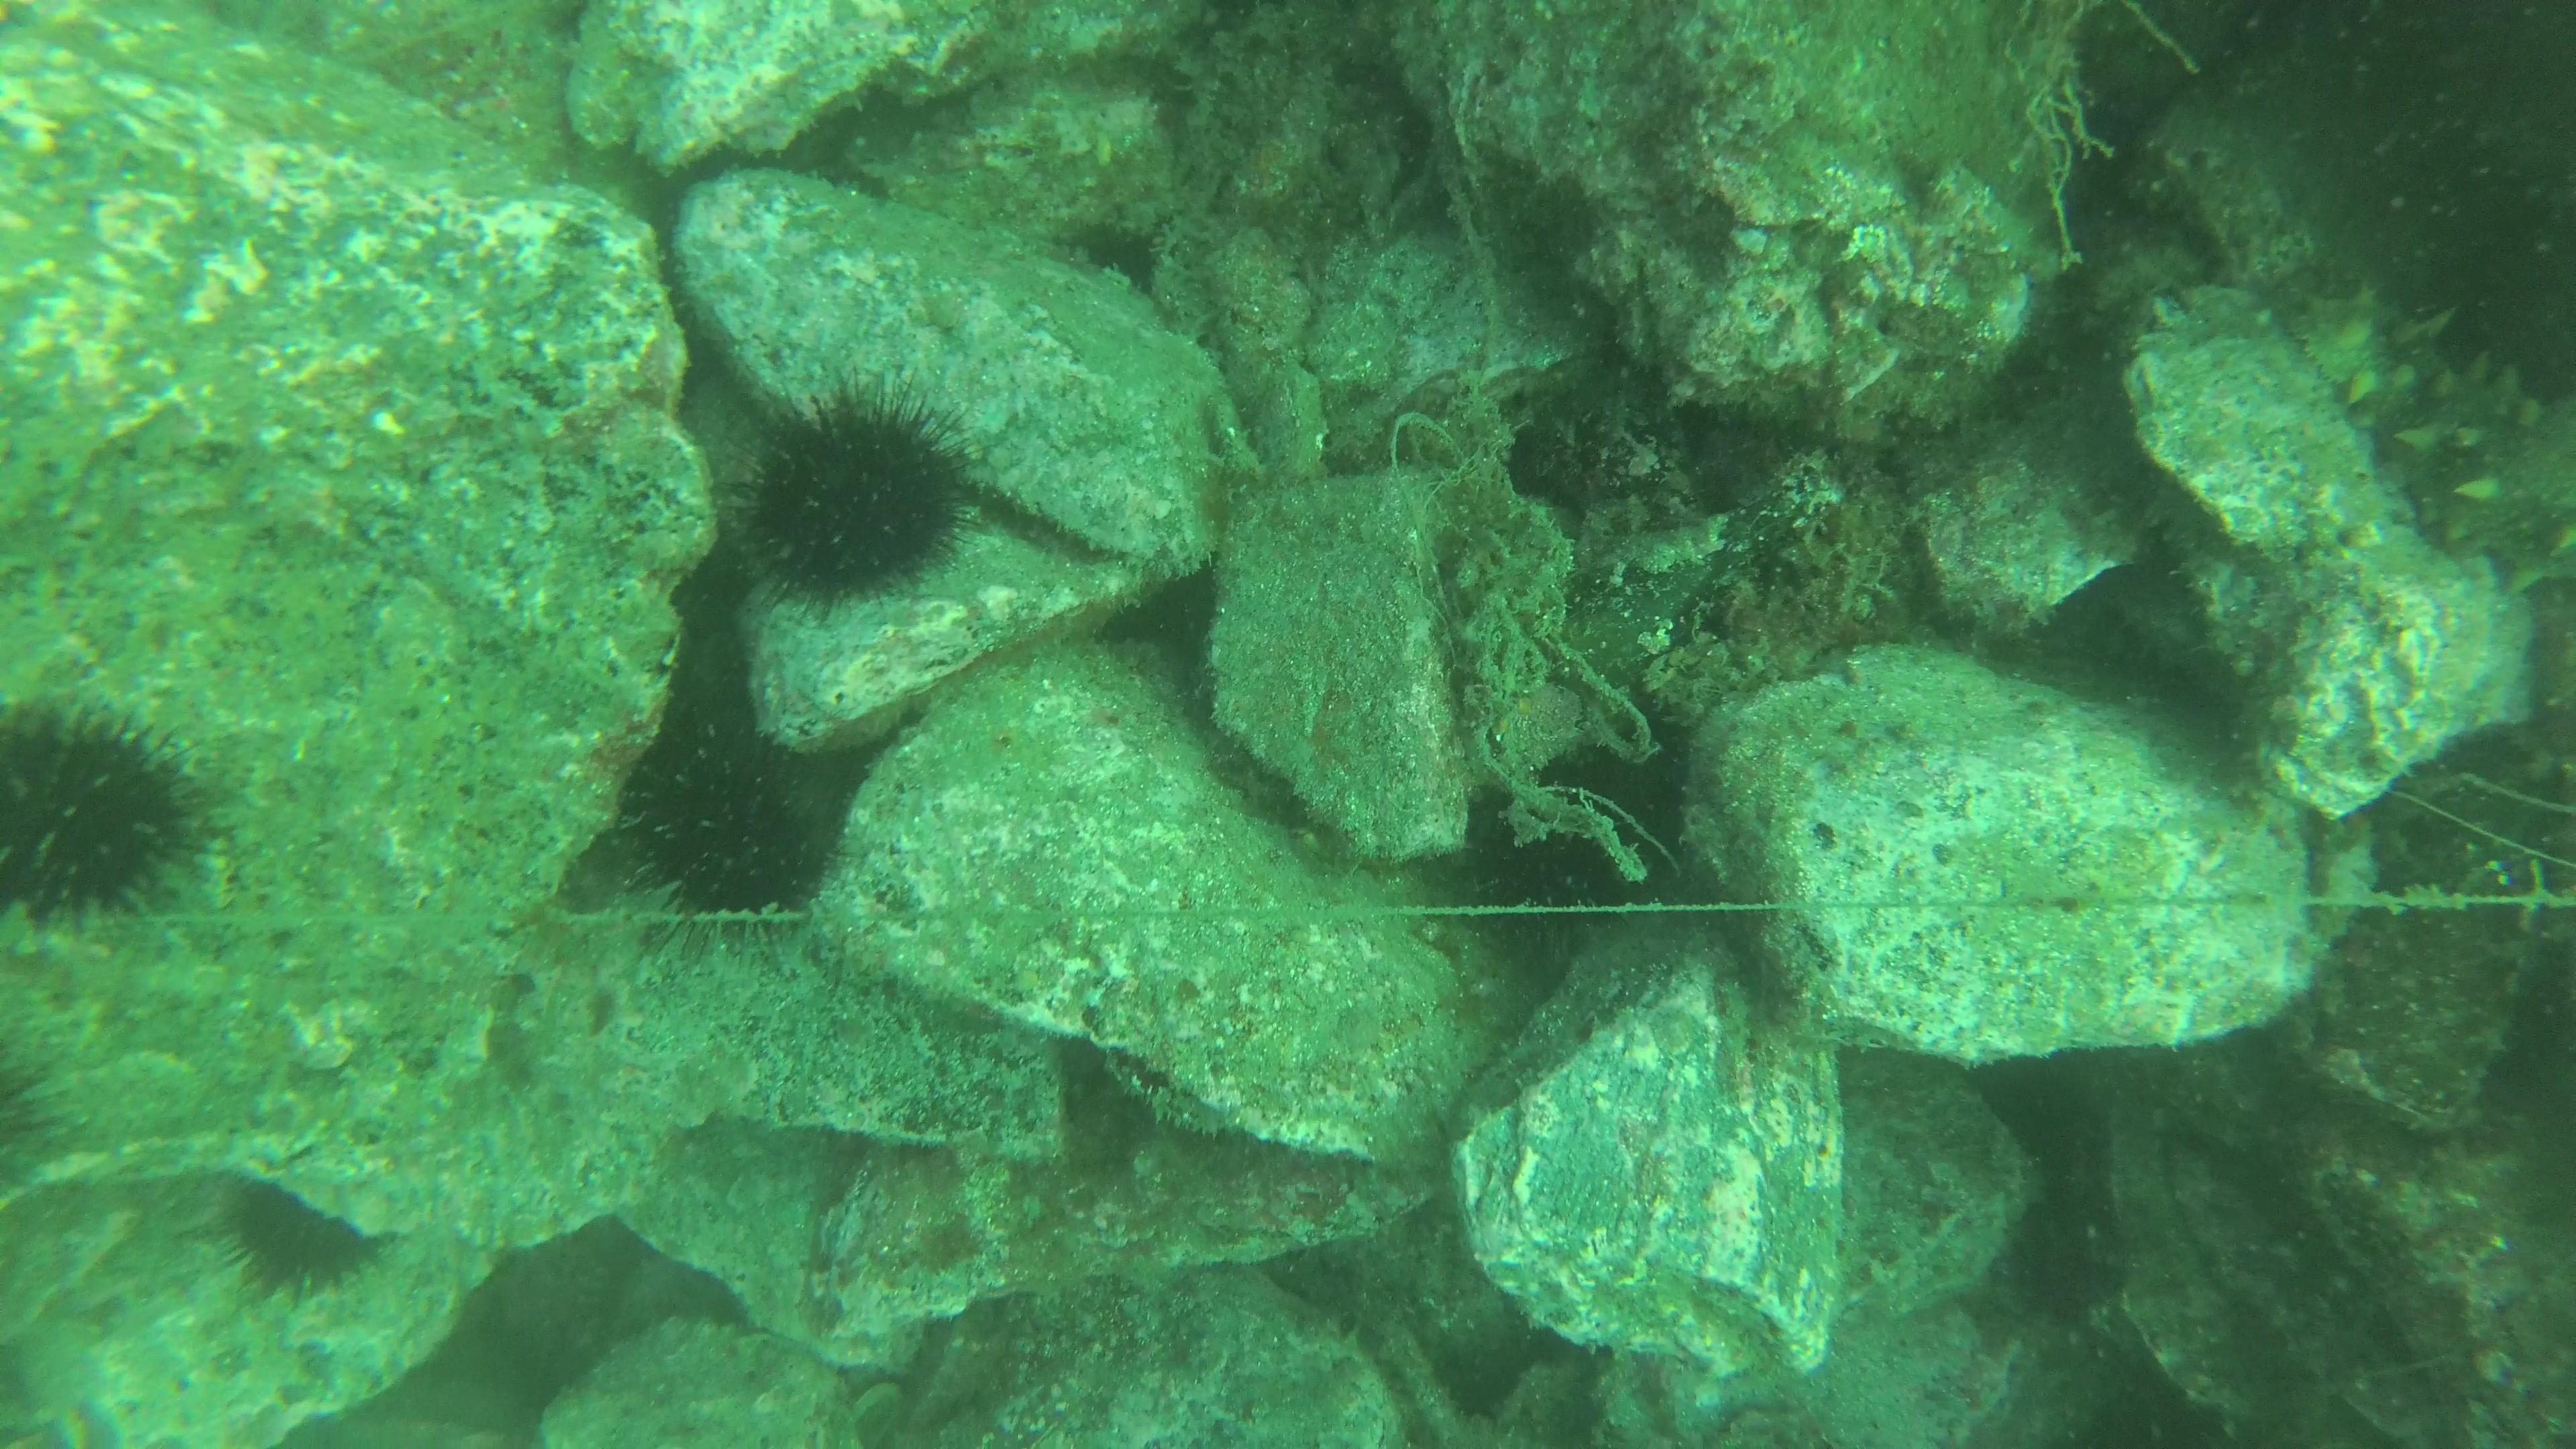echinus: (740, 384, 980, 619), (4, 702, 211, 947), (617, 715, 835, 924), (196, 1178, 391, 1311), (1460, 837, 1635, 947)
holothurian: (2295, 267, 2576, 607)
